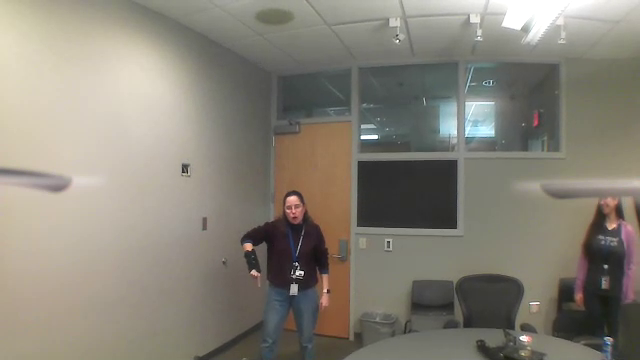down: (243, 265, 265, 292)
